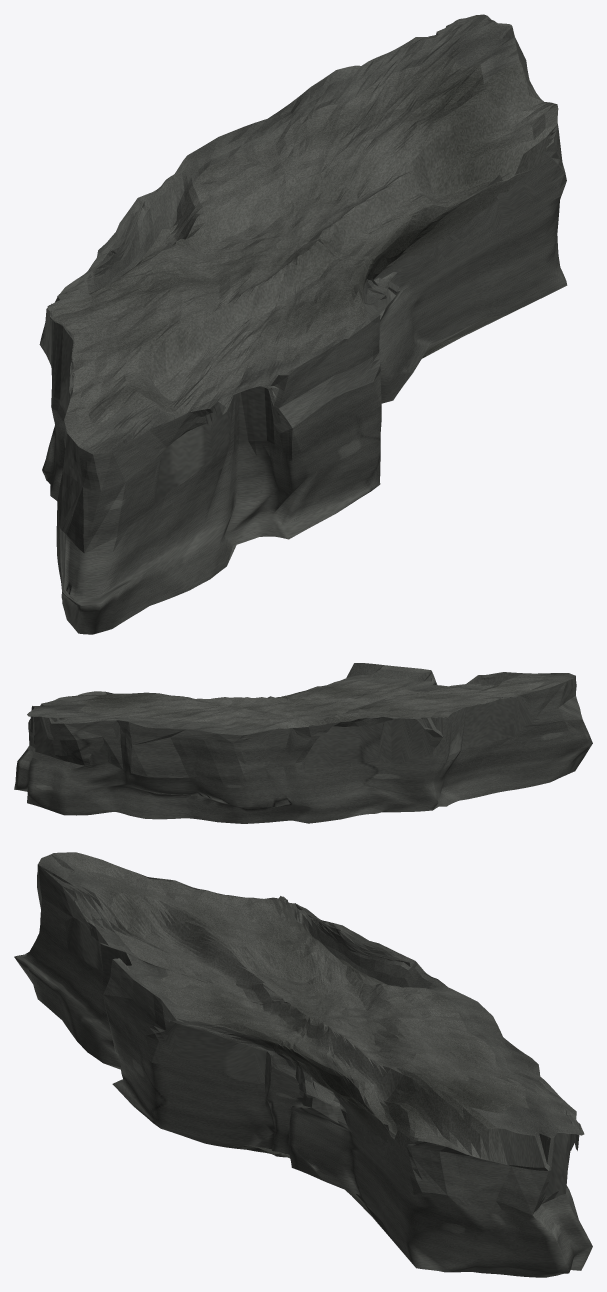
Rendered from f3_concrete_rubble_v29_small.glb.
3 renders of one model, top to bottom at view 1: azimuth 30°, elevation 25°; view 2: azimuth 150°, elevation 25°; view 3: azimuth 270°, elevation 25°, orthographic. The views are drawn at different scales.
Visible parts, largest first — view 1: F3_CONCRETE_RUBBLE01_V29_small; view 2: F3_CONCRETE_RUBBLE01_V29_small; view 3: F3_CONCRETE_RUBBLE01_V29_small.
Boxes of the visible parts, x1,y1,x2,y2 form: F3_CONCRETE_RUBBLE01_V29_small: (39, 14, 567, 634); F3_CONCRETE_RUBBLE01_V29_small: (14, 663, 592, 823); F3_CONCRETE_RUBBLE01_V29_small: (14, 852, 592, 1277).
Size of the model in its own units: 0.3416 by 0.0801 by 0.2758.
Materials: 2 (2 with a texture image).
